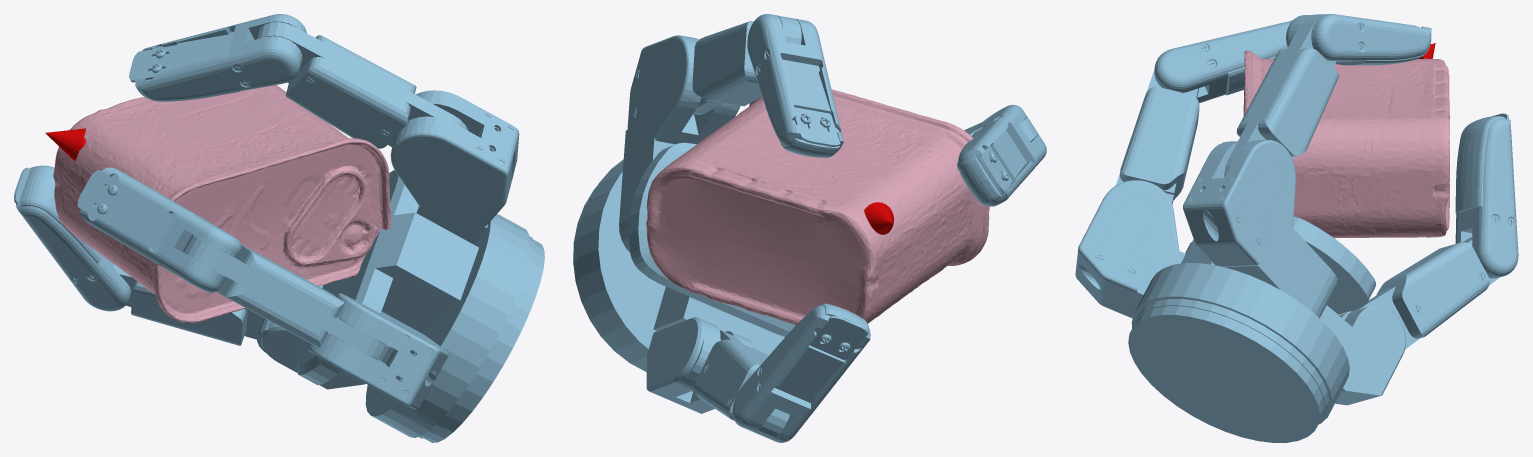
3 views of the same model, side by side, from view 1: azimuth 30°, elevation 25°; view 2: azimuth 150°, elevation 25°; view 3: azimuth 270°, elevation 25° (orthographic). The views are drawn at different scales.
Visible parts, largest first — view 1: world, potted_meat_can.stl; view 2: world, potted_meat_can.stl; view 3: world, potted_meat_can.stl.
Part boxes in pixels (bbox=[...]): world: bbox=[14, 14, 544, 442]; potted_meat_can.stl: bbox=[53, 85, 390, 322]; world: bbox=[573, 14, 1046, 442]; potted_meat_can.stl: bbox=[646, 89, 989, 324]; world: bbox=[1075, 14, 1518, 442]; potted_meat_can.stl: bbox=[1243, 50, 1449, 238].
Bounding box in the file's own units: 0.1853 × 0.1687 × 0.1792.
